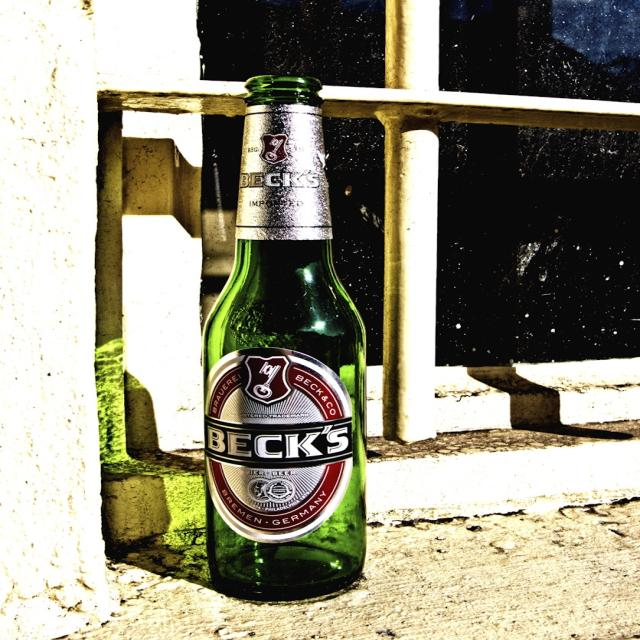becks: (203, 350, 359, 542)
